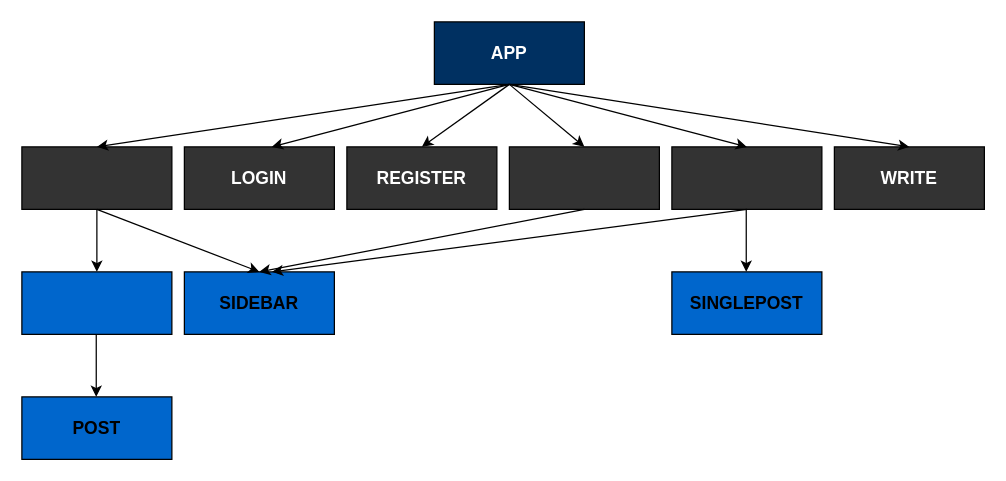
Image size: 1006x481. Some labels were removed from this diagram. Here are the shapes that lost their labels. From the top down, the centre of each, then its label:
At [96,177]: "HOME".
At [583,177]: "SETTINGS".
At [746,177]: "SINGLE".
At [96,302]: "POSTS".
